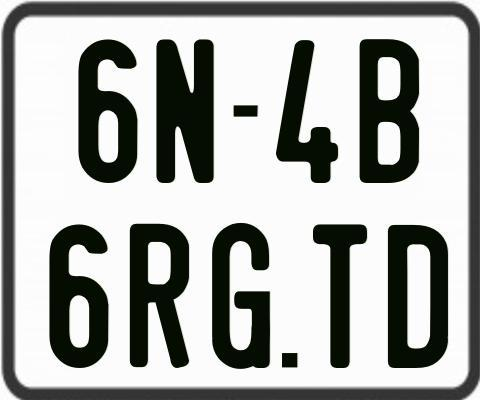4: (276, 37, 339, 182)
6: (76, 38, 141, 188), (46, 221, 111, 370)
B: (357, 37, 419, 186)
D: (386, 222, 452, 368)
G: (211, 223, 269, 374)
N: (156, 37, 215, 187)
R: (128, 223, 190, 368)
T: (312, 224, 367, 368)
